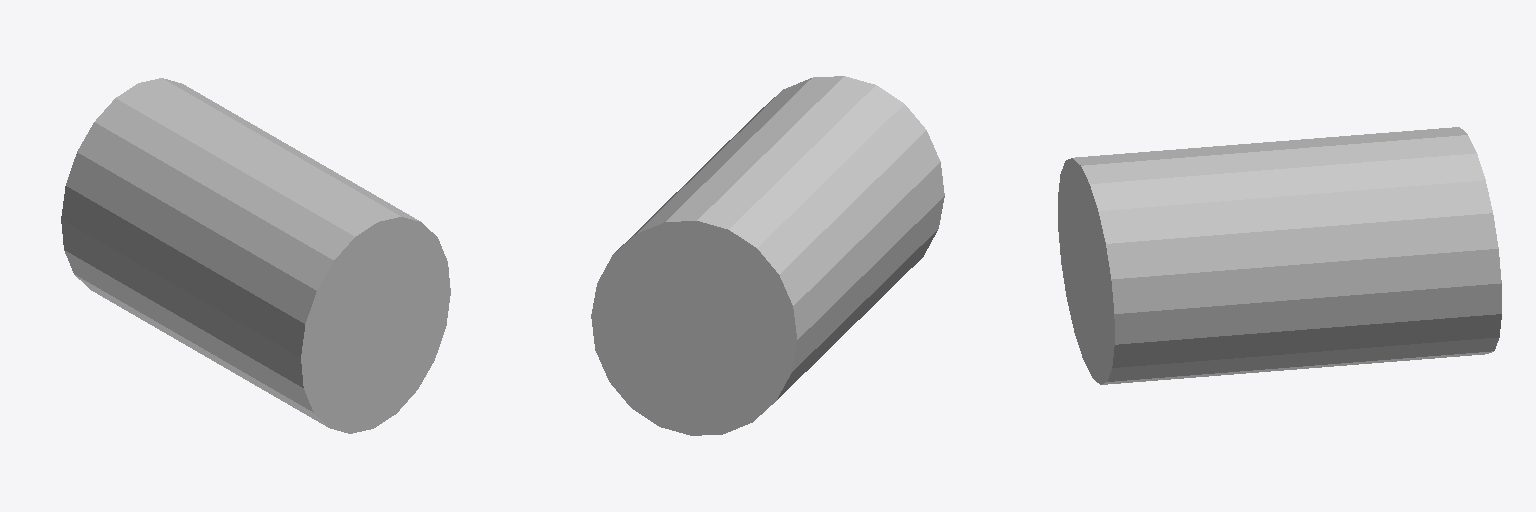
Rendered from arm.obj.
3 renders of one model, left to right at view 1: azimuth 30°, elevation 25°; view 2: azimuth 150°, elevation 25°; view 3: azimuth 270°, elevation 25°, orthographic.
Parts seen in each view (by area): view 1: polySurface2 hand; view 2: polySurface2 hand; view 3: polySurface2 hand.
Part boxes in pixels (left/top/right/bottom): polySurface2 hand: left=61, top=78, right=450, bottom=433; polySurface2 hand: left=591, top=76, right=944, bottom=435; polySurface2 hand: left=1058, top=127, right=1501, bottom=384.
Size of the model in its own units: 0.5933 by 0.555 by 1.02.